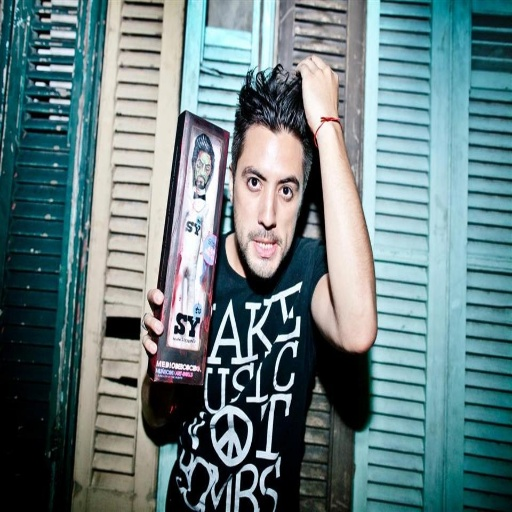hand: (307, 58, 346, 134), (139, 288, 165, 357)
